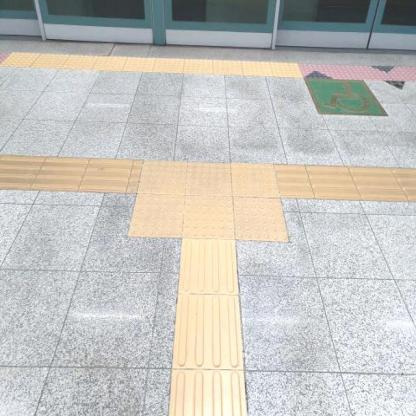podotacti: (108, 130, 306, 278), (170, 239, 250, 415), (2, 50, 415, 82), (280, 160, 416, 204), (0, 148, 131, 192)
